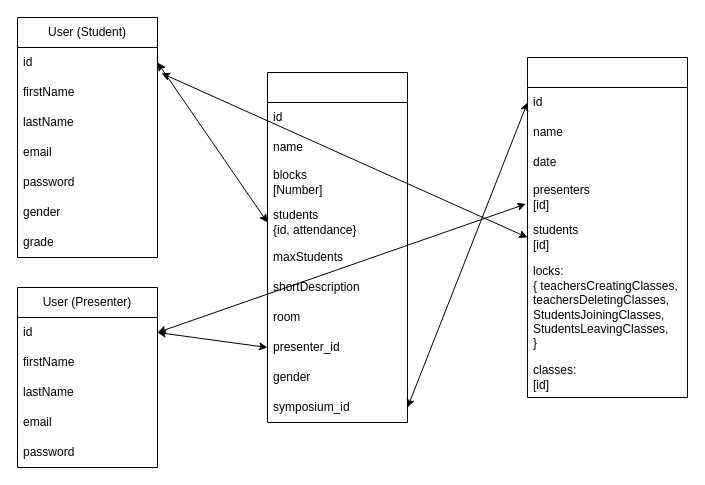
The diagram is 705 pixels wide and 485 high, and some of its shapes have lost their labels. The box of each missing label's shape, as (x1, y1, x2, y2) in pixels:
Class: (266, 72, 408, 422)
Symposium: (526, 56, 688, 398)
